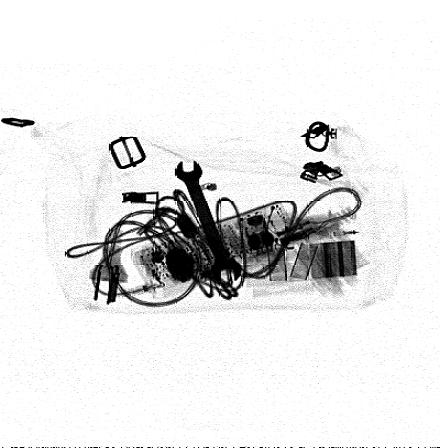Wrench: (173, 158, 243, 285)
